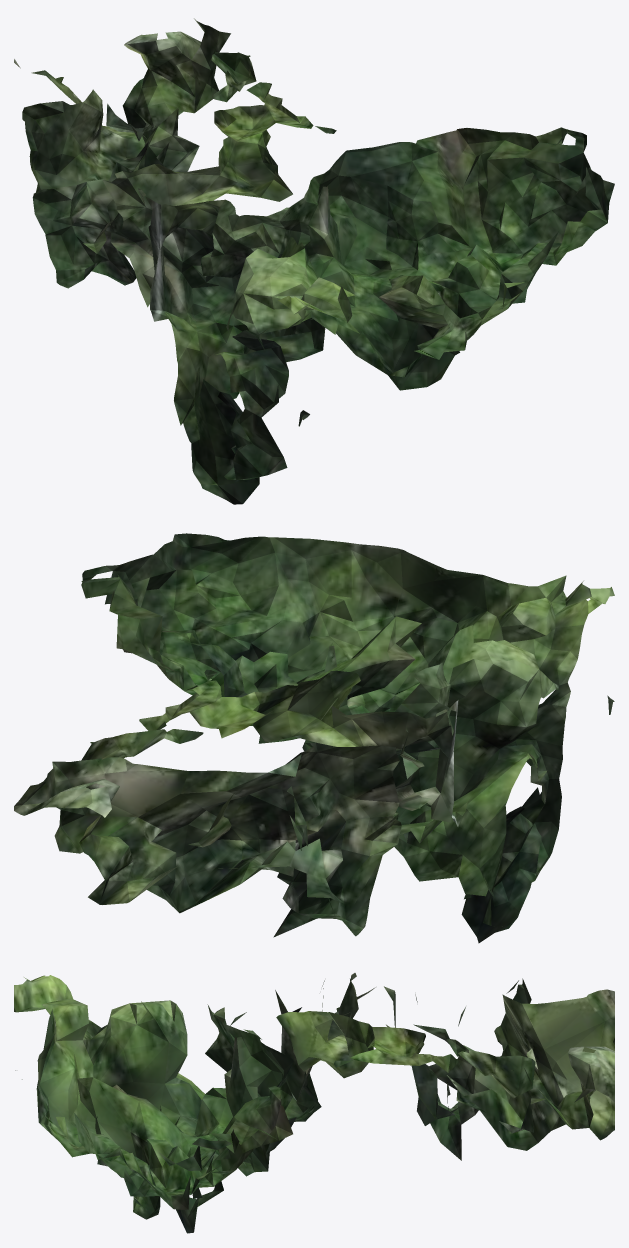
3 views of the same model, one above another, from view 1: azimuth 30°, elevation 25°; view 2: azimuth 150°, elevation 25°; view 3: azimuth 270°, elevation 25° (orthographic). The views are drawn at different scales.
Size of the model in its own units: 35.76 by 23.69 by 52.22.
3 materials, 3 textured.
